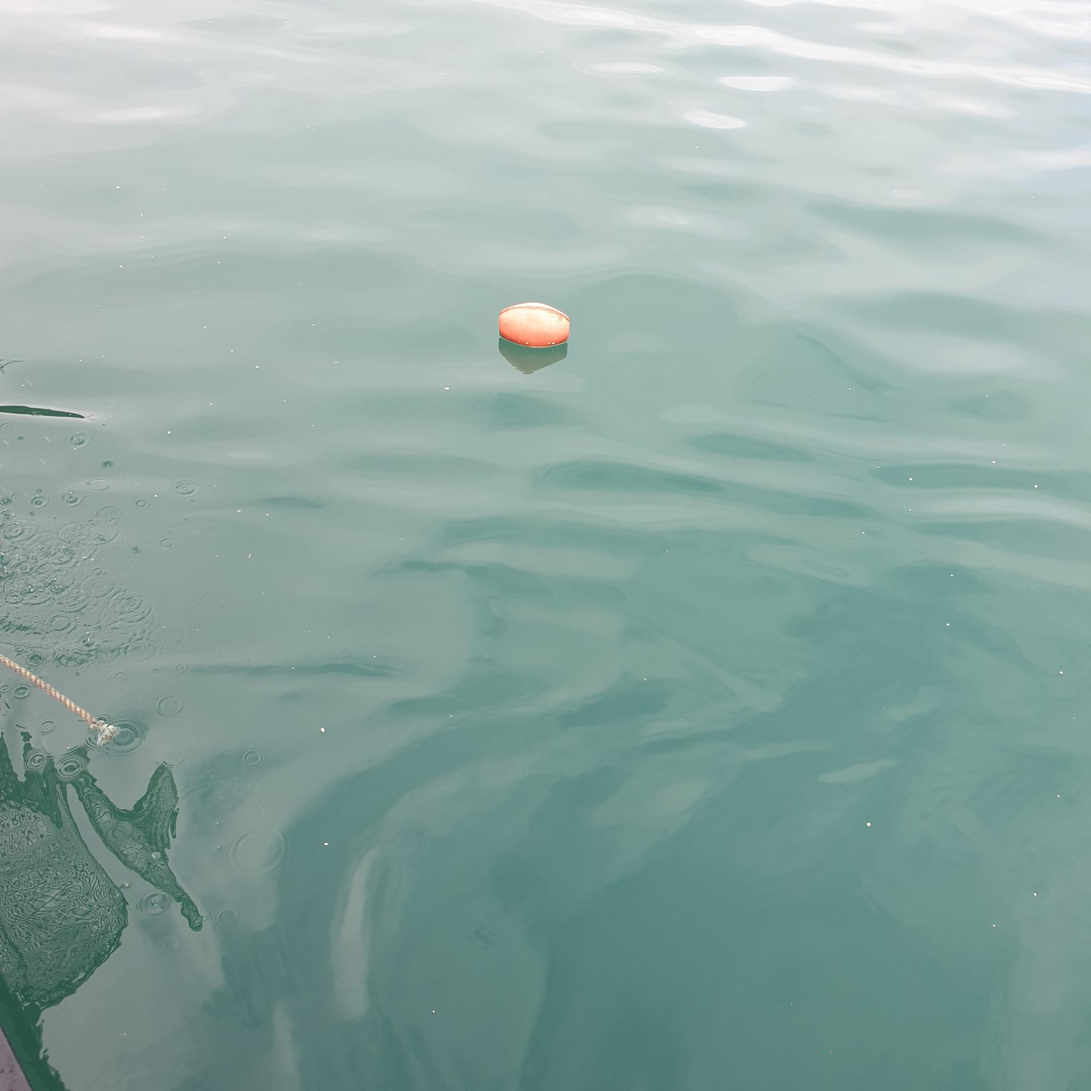sampah_terapung: (1, 654, 121, 748), (499, 303, 570, 347)
